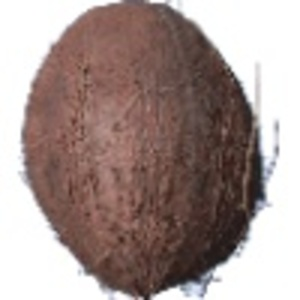coco: (21, 1, 279, 300)
